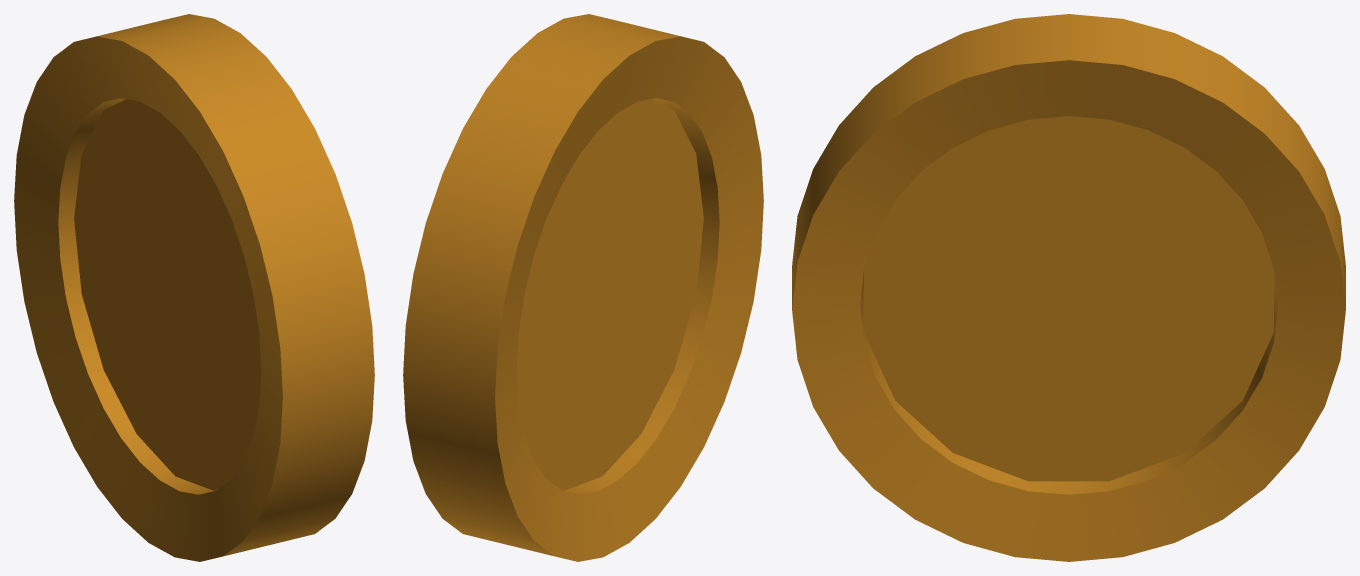
3 views of the same model, side by side, from view 1: azimuth 30°, elevation 25°; view 2: azimuth 150°, elevation 25°; view 3: azimuth 270°, elevation 25° (orthographic). The views are drawn at different scales.
Parts seen in each view (by area): view 1: Cylinder; view 2: Cylinder; view 3: Cylinder.
Part boxes in pixels (x1,y1,x2,y2): Cylinder: (14, 14, 374, 561); Cylinder: (403, 14, 763, 561); Cylinder: (792, 14, 1345, 561).
Size of the model in its own units: 0.3949 by 2 by 2.
